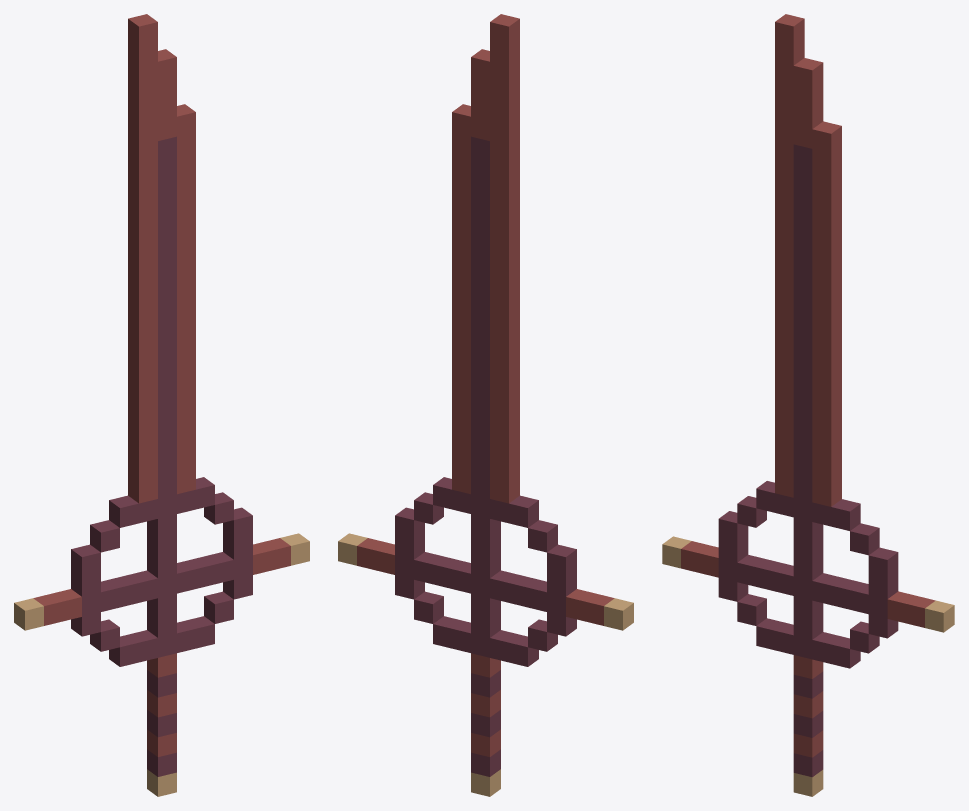
File: RedSword.obj
3 renders of one model, left to right at view 1: azimuth 30°, elevation 25°; view 2: azimuth 150°, elevation 25°; view 3: azimuth 330°, elevation 25°, orthographic.
Size of the model in its own units: 1.5 by 3.9 by 0.1.
